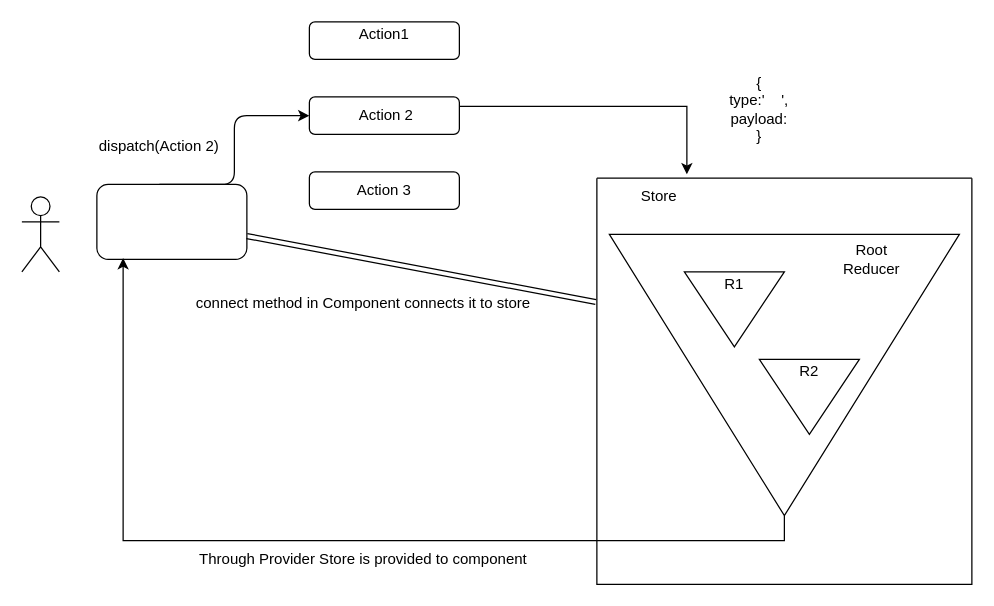
This 994x606 diagram has some shape labels left out. Each missing label, with the box of its shape:
Actor: (21, 196, 59, 272)
View/Component: (96, 183, 247, 259)
